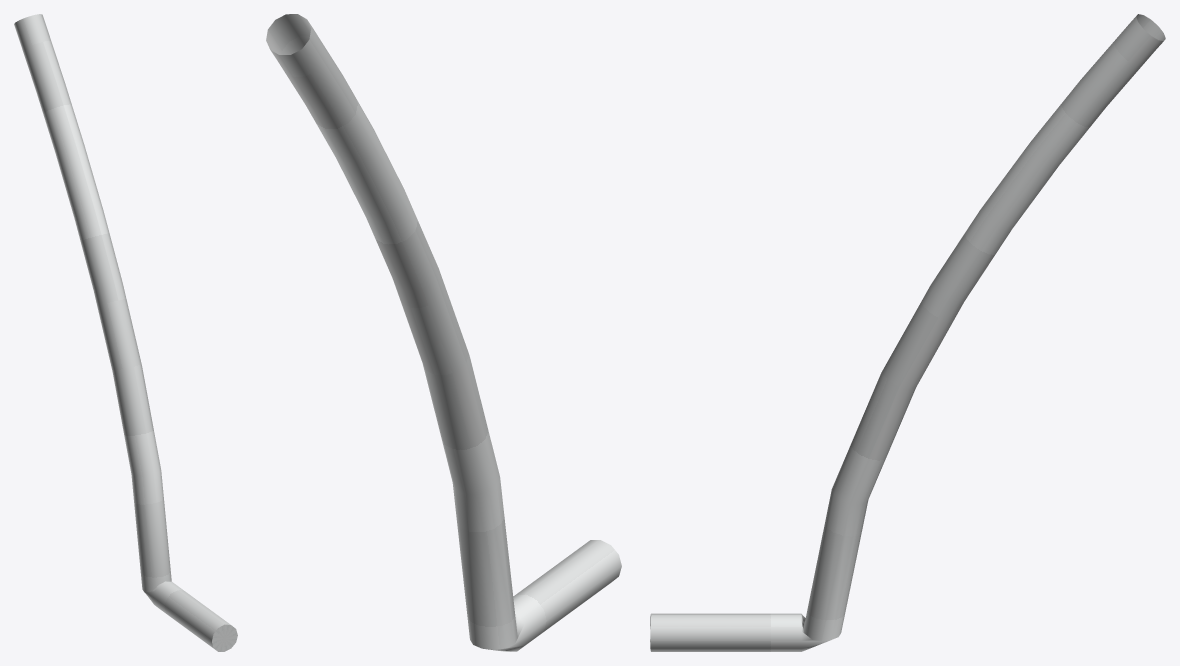
File: luminairearm_laupsweep12ft_c1_thin.obj
3 renders of one model, left to right at view 1: azimuth 30°, elevation 25°; view 2: azimuth 150°, elevation 25°; view 3: azimuth 270°, elevation 25°, orthographic. The views are drawn at different scales.
Visible parts, largest first — view 1: luminairearm_laupsweep12ft_c1_thin; view 2: luminairearm_laupsweep12ft_c1_thin; view 3: luminairearm_laupsweep12ft_c1_thin.
Boxes of the visible parts, x1,y1,x2,y2 form: luminairearm_laupsweep12ft_c1_thin: (14,14,237,651); luminairearm_laupsweep12ft_c1_thin: (266,14,621,651); luminairearm_laupsweep12ft_c1_thin: (650,14,1165,651).
Bounding box in the file's own units: 0.0562 × 1.02 × 0.755.
